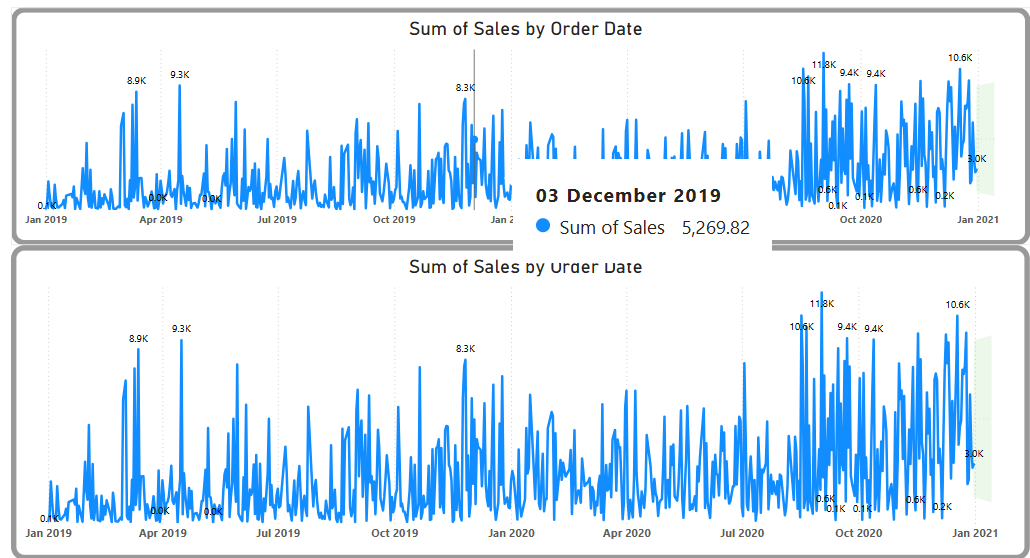

Layout of this report page (visuals, bound fields, positions):
{"tool":"powerbi","page":{"name":"Page 2","canvas":[1280,720],"ordinal":1},"visuals":[{"type":"lineChart","fields":{"Y":["Sum(SuperStore_Sales_Dataset.Sales)"],"Category":["SuperStore_Sales_Dataset.Order Date"]},"box":[66.7,63.3,1213.3,283.3],"z":0},{"type":"lineChart","fields":{"Y":["Sum(SuperStore_Sales_Dataset.Sales)"],"Category":["SuperStore_Sales_Dataset.Order Date"]},"box":[67.5,345.9,1212.9,374.6],"z":1000}]}

Visuals, with their boxes on the page's 1280x720 design canvas (x1, y1, x2, y2). These are canvas units, not pixel positions in the 1030x558 screenshot, which may show the page scaled, cropped or inside an application window:
lineChart - Sum(SuperStore_Sales_Dataset.Sales) x SuperStore_Sales_Dataset.Order Date: select_region(67, 63, 1280, 347)
lineChart - Sum(SuperStore_Sales_Dataset.Sales) x SuperStore_Sales_Dataset.Order Date: select_region(68, 346, 1280, 720)
